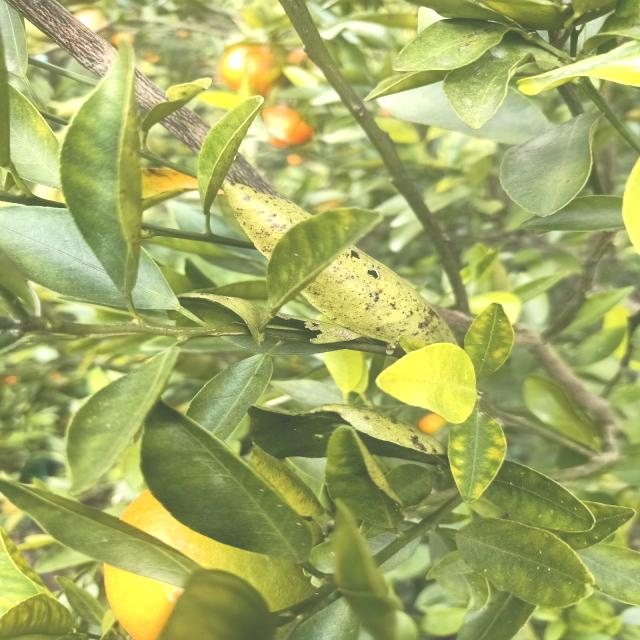melanose: (236, 173, 460, 359)
